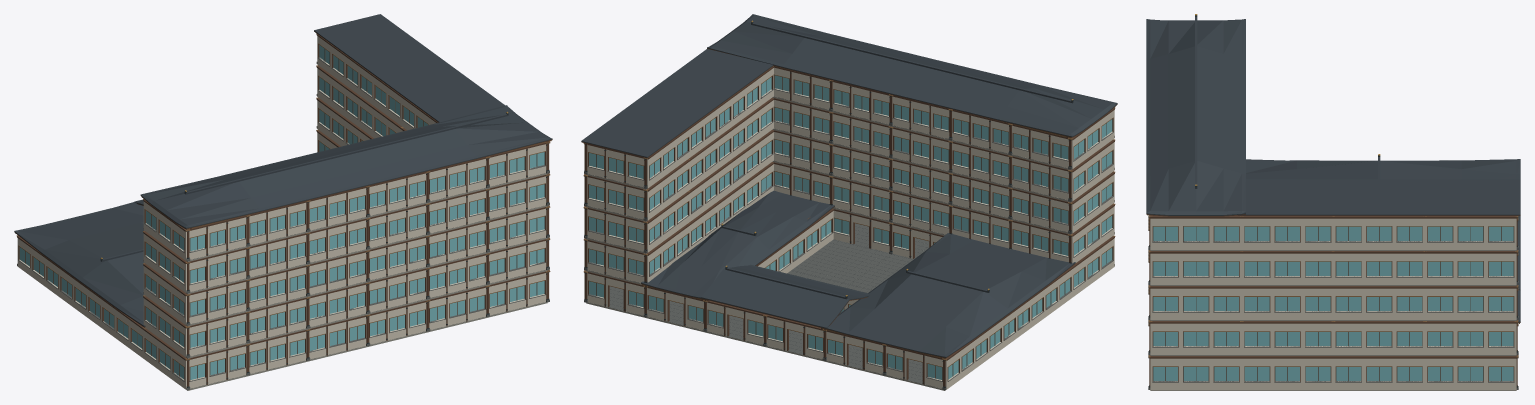
Rendered from visual-far.glb.
The picture shows the model from 3 angles, left to right: view 1: azimuth 30°, elevation 25°; view 2: azimuth 150°, elevation 25°; view 3: azimuth 270°, elevation 25°; orthographic projection. The views are drawn at different scales.
Visible parts, largest first — view 1: 参数墙 · 独立窗玻璃 (×44), 连续屋面 · hip (×2), 连续屋面 · flat; view 2: 参数墙 · 独立窗玻璃 (×46), 连续屋面 · hip (×3), 参数墙 · 通行门洞 (×8), 连续屋面 · flat, 连续屋面 · gable, 石铺面与混凝土楼板 (×4); view 3: 参数墙 · 独立窗玻璃 (×20), 连续屋面 · hip (×2), 连续屋面 · flat.
Boxes of the visible parts, bbox=[...] form: 参数墙 · 独立窗玻璃 (×44): bbox=[17, 34, 546, 389]; 连续屋面 · hip (×2): bbox=[14, 105, 552, 328]; 连续屋面 · flat: bbox=[314, 14, 504, 122]; 参数墙 · 独立窗玻璃 (×46): bbox=[586, 66, 1114, 389]; 连续屋面 · hip (×3): bbox=[641, 14, 1117, 359]; 参数墙 · 通行门洞 (×8): bbox=[587, 209, 943, 388]; 连续屋面 · flat: bbox=[581, 49, 773, 158]; 连续屋面 · gable: bbox=[700, 264, 869, 329]; 石铺面与混凝土楼板 (×4): bbox=[646, 239, 945, 390]; 参数墙 · 独立窗玻璃 (×20): bbox=[1150, 215, 1516, 390]; 连续屋面 · hip (×2): bbox=[1146, 14, 1520, 222]; 连续屋面 · flat: bbox=[1238, 179, 1520, 215].
Bounding box in the file's own units: 45.2 × 21.28 × 36.8.
Materials: 18 (18 with a texture image).
